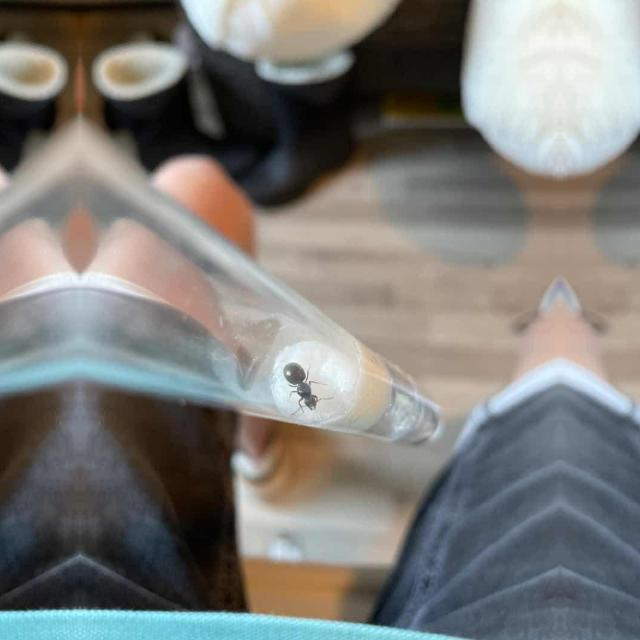Lasius: (280, 352, 324, 414)
